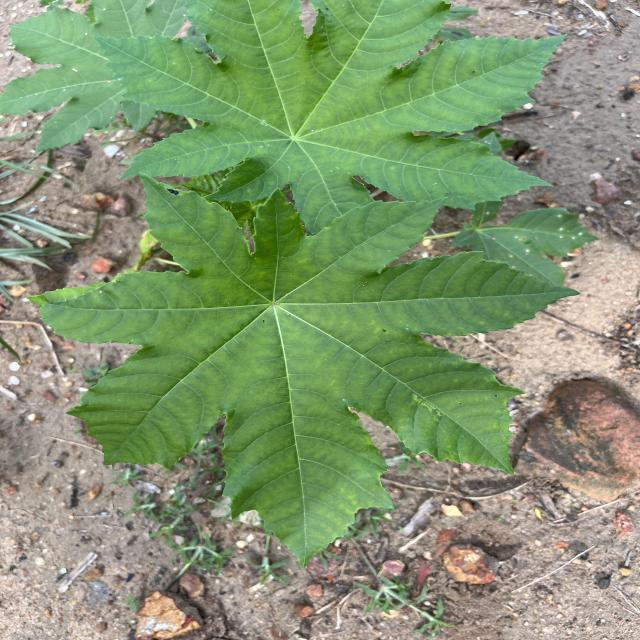Ricinus communis linn: (24, 166, 585, 574), (88, 0, 574, 237)
